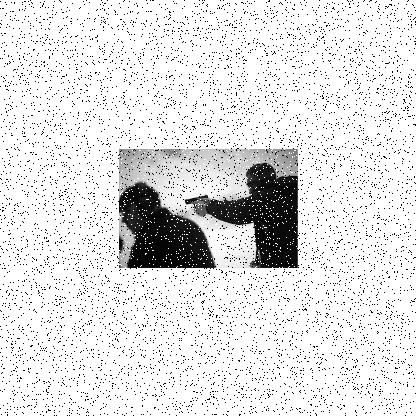gun: (184, 194, 208, 216)
